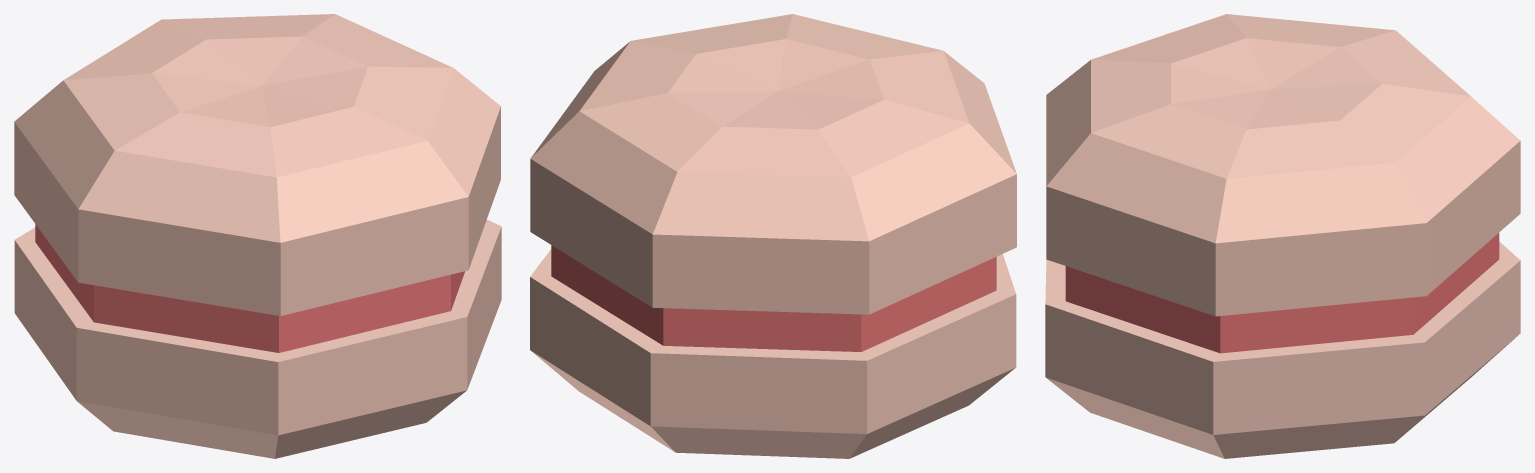
File: circle_sandwich_02.fbx
3 views of the same model, side by side, from view 1: azimuth 30°, elevation 25°; view 2: azimuth 150°, elevation 25°; view 3: azimuth 270°, elevation 25° (orthographic).
Visible parts, largest first — view 1: Sphere.002; view 2: Sphere.002; view 3: Sphere.002.
Part boxes in pixels (x1,y1,x2,y2): Sphere.002: (14, 14, 501, 458); Sphere.002: (530, 14, 1016, 458); Sphere.002: (1045, 14, 1520, 458).
Size of the model in its own units: 115 by 79.98 by 113.
